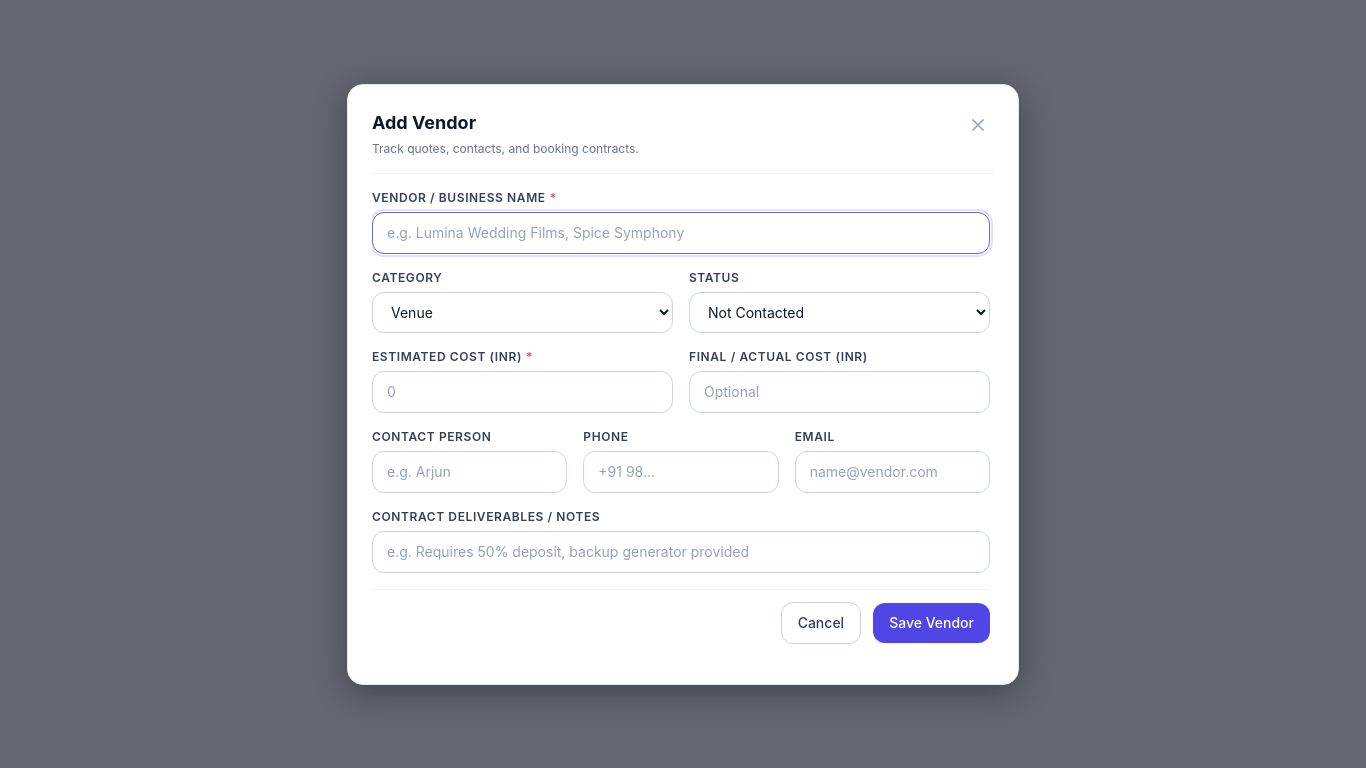
Scenario: AddVendorModal component › submits with actualCost and handles rejection with Error and non-Error
Type "Studio 9" into the field labelled "Vendor / Business Name*" at (681, 232), box [372,212,990,254]
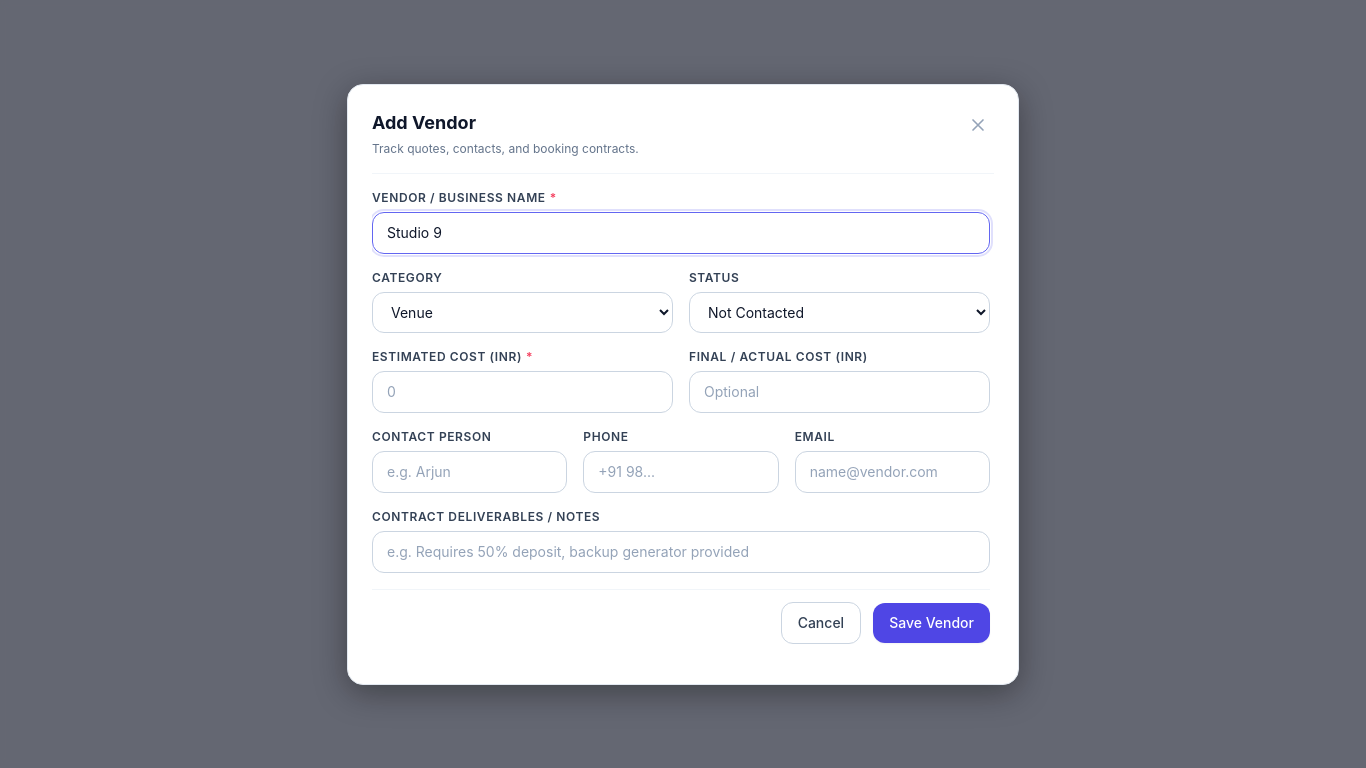
Type "50000" into the number field labelled "Estimated Cost (INR)*" at (522, 392), box [372,370,673,412]
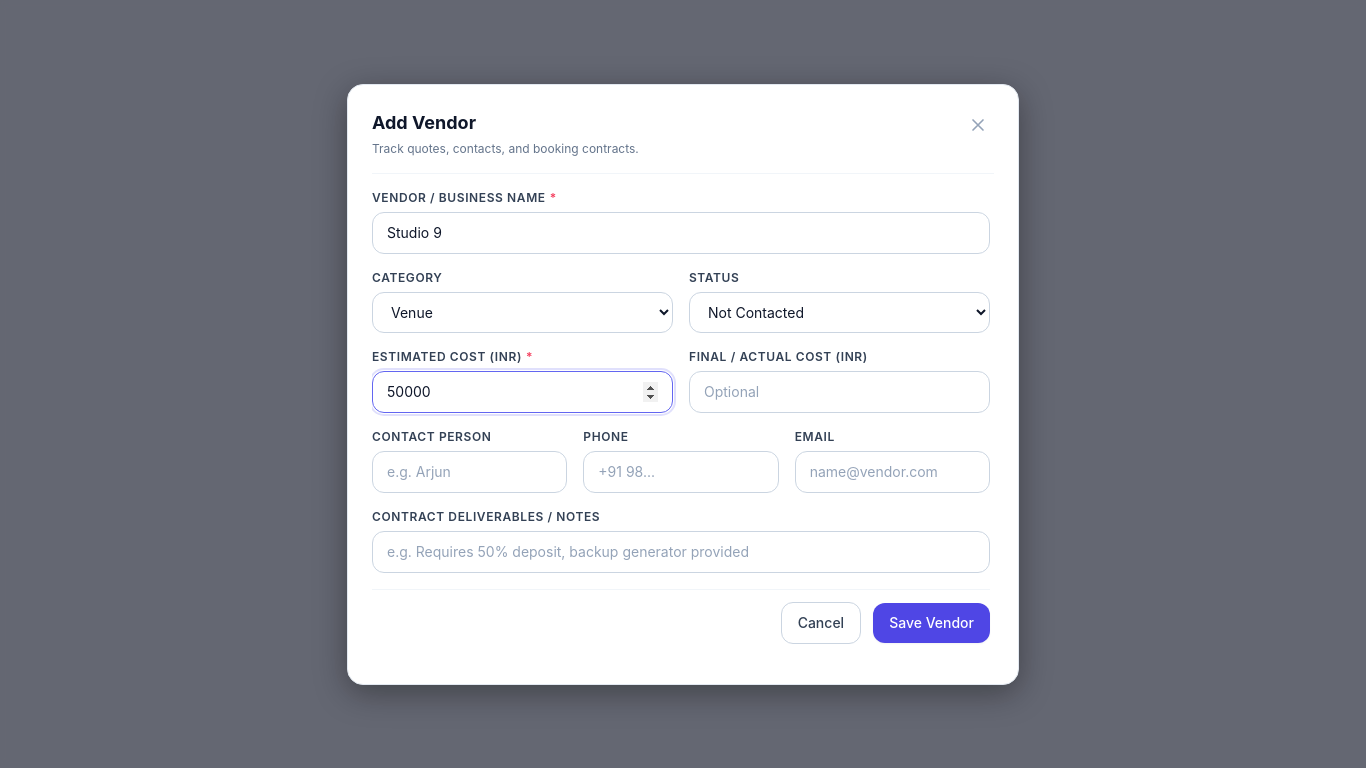
Type "48000" into the number field labelled "Final / Actual Cost (INR)" at (840, 392), box [689,370,990,412]
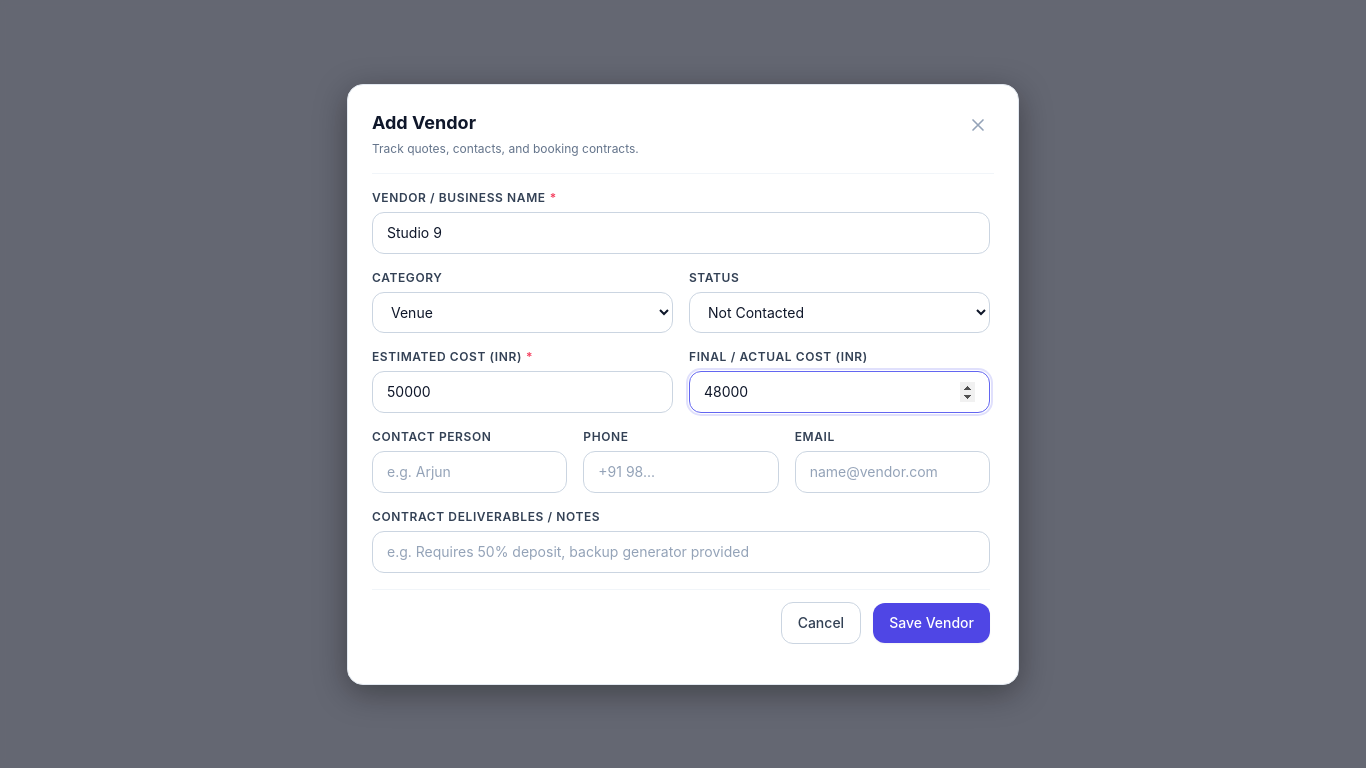
Click the button "Save Vendor" at (932, 622), box [873,602,990,642]
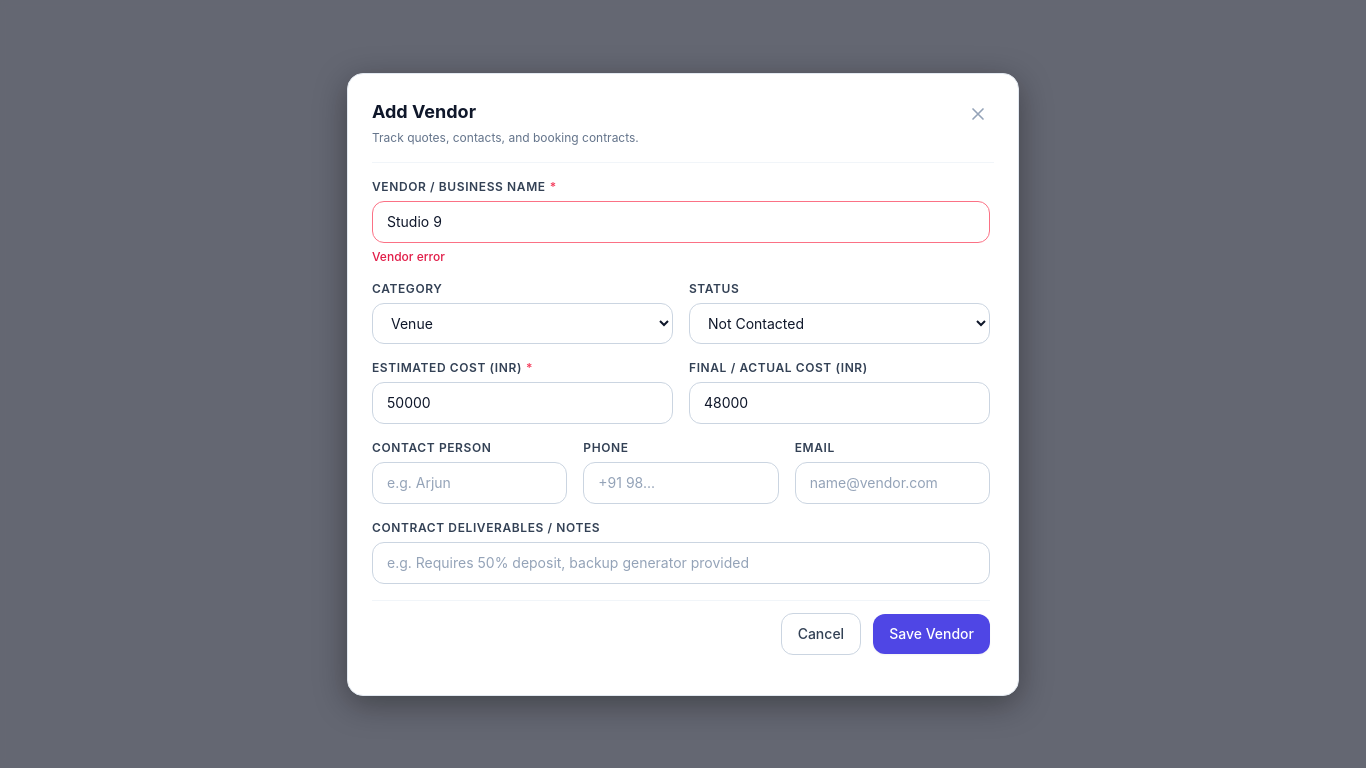
Expected: the text "Vendor error" is shown, [372,248,445,264]
Click the button "Save Vendor" at (932, 634), box [873,614,990,654]
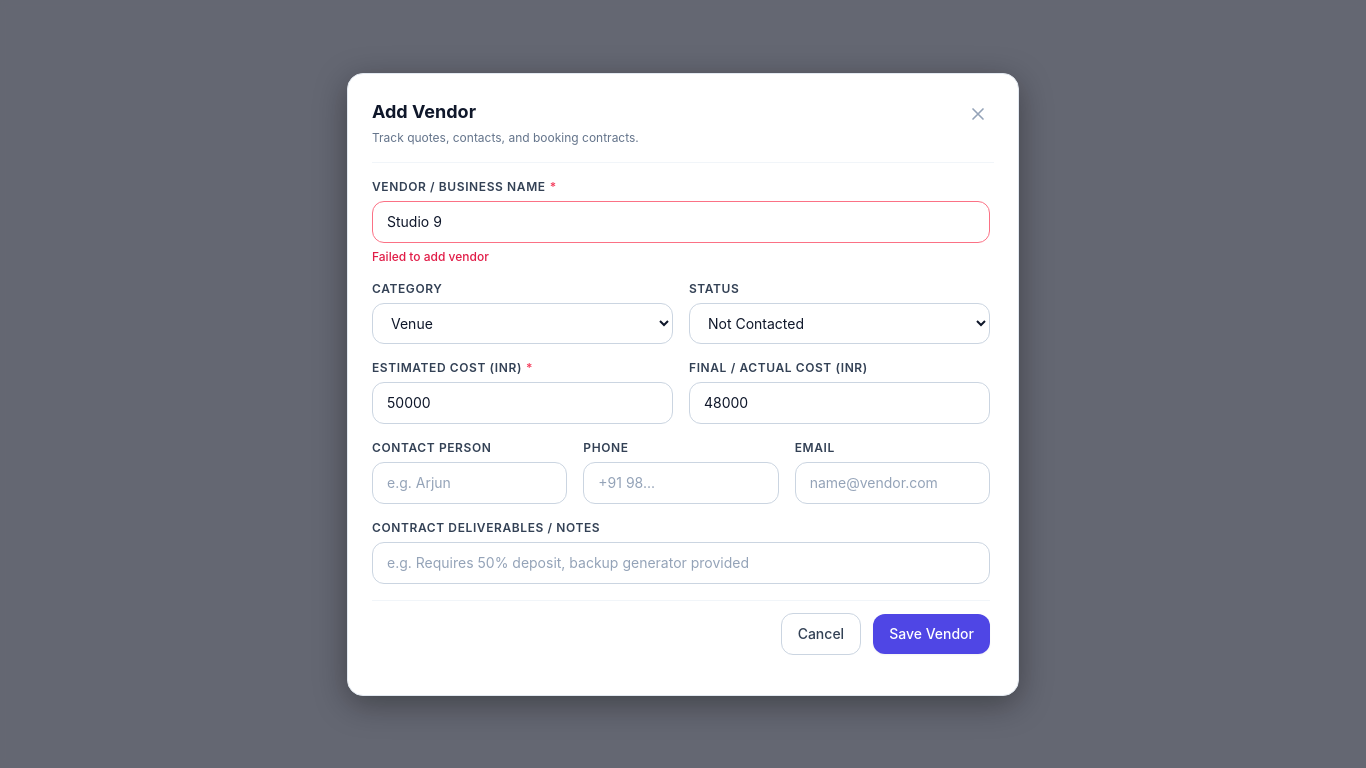
Expected: the text "Failed to add vendor" is shown, [372,248,489,264]
